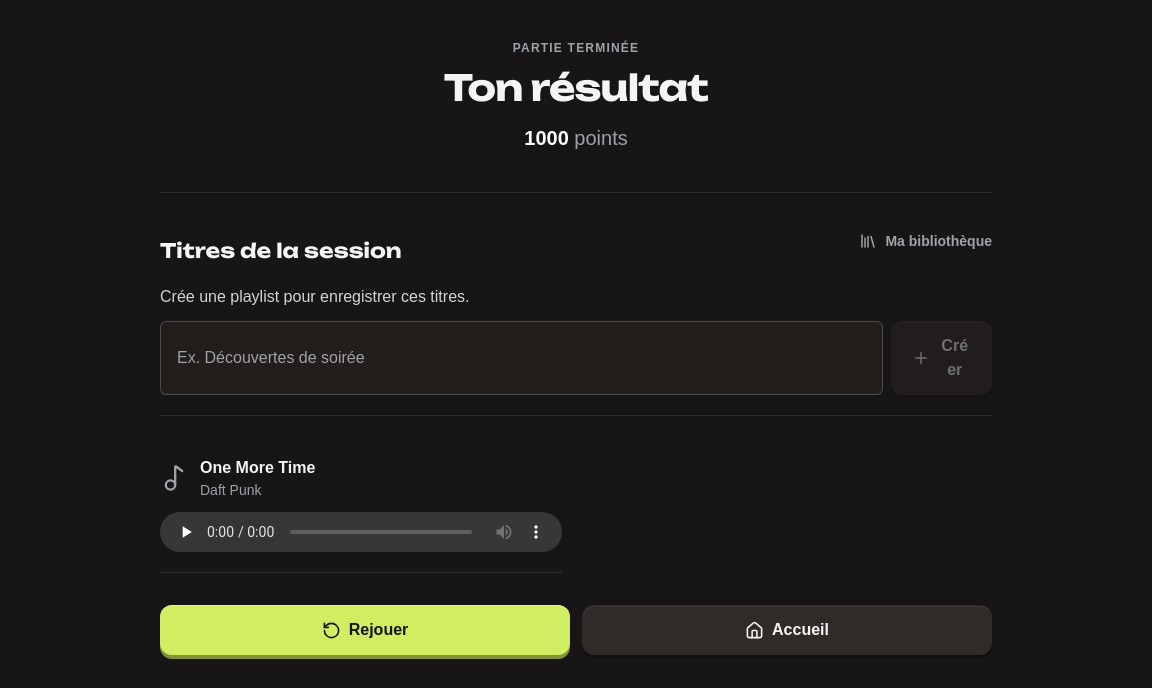
Test: EndScreen library actions › creates the first private playlist without leaving the results
The width and height of the screenshot is (1152, 688).
Type "Découvertes" into the field named "nom de la nouvelle playlist" at {"x": 522, "y": 358}, box [160, 321, 883, 395]
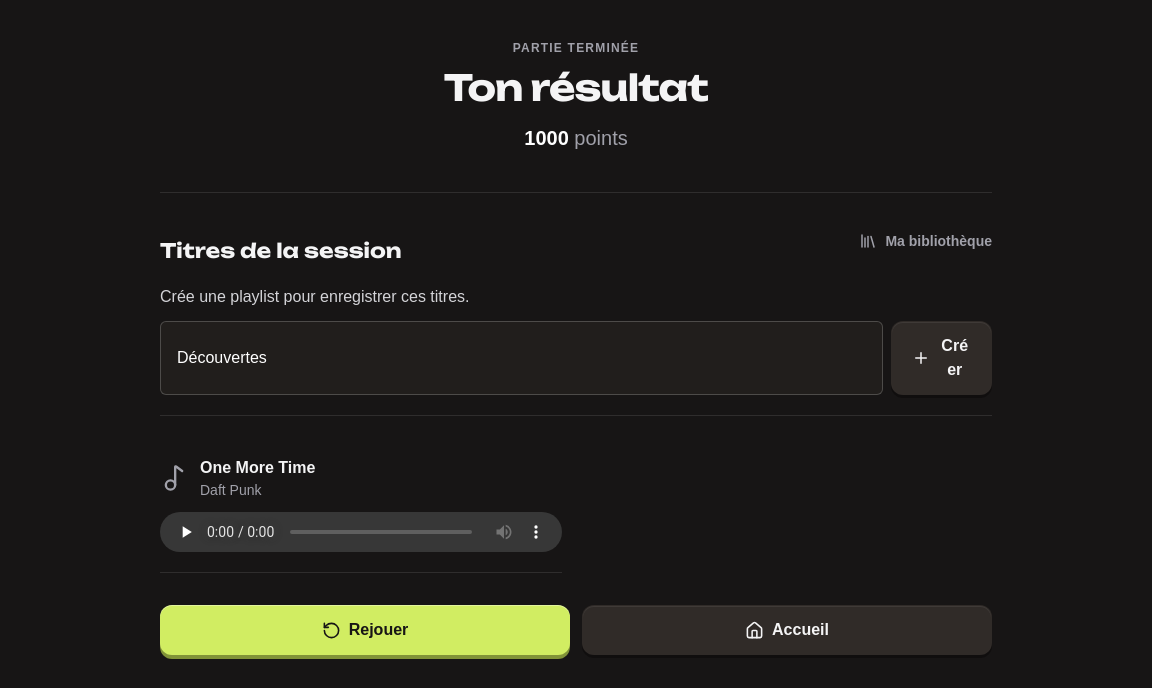
Click the button "Créer" at {"x": 942, "y": 358}, box [891, 321, 992, 395]
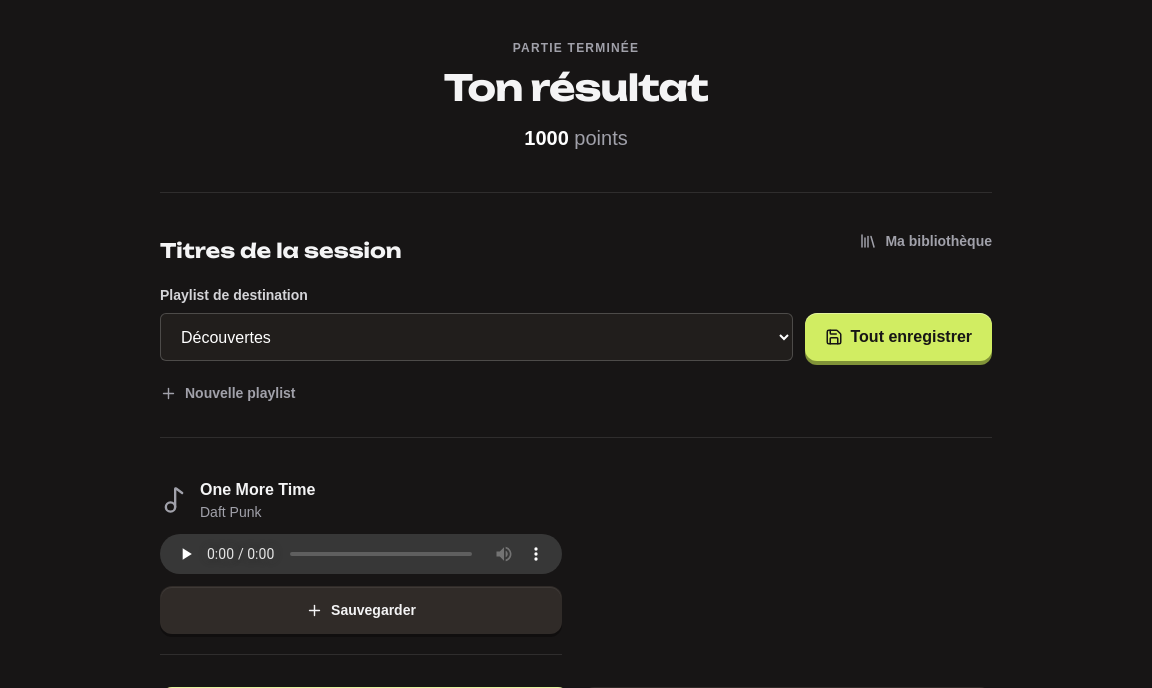
Result: the dropdown labelled "Playlist de destination" shows "Découvertes" at [160, 313, 792, 361]
